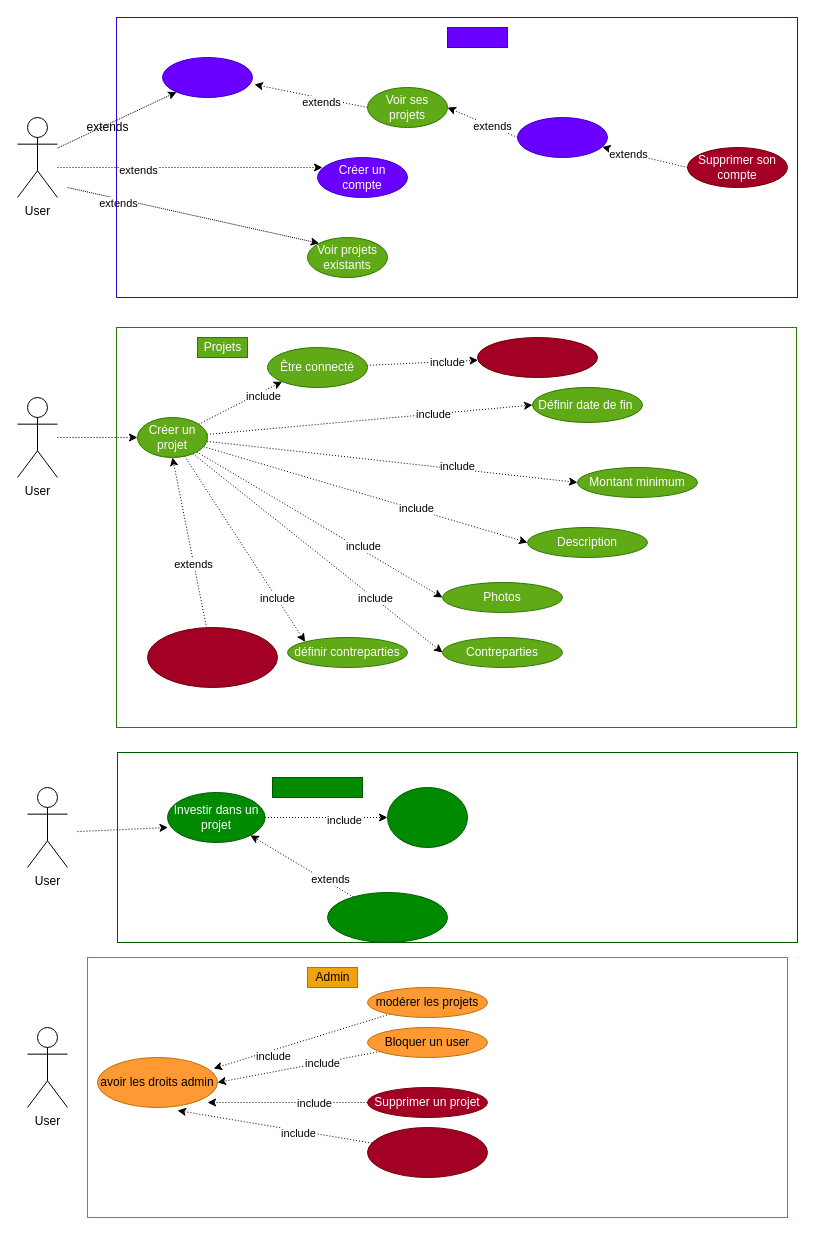
Image size: 815x1235. Some labels were removed from this diagram. The centre of each missing label's shape, as x and y in pixels:
"Compte" goes at [477,37].
"investissement" goes at [317,787].
"Mettre un projet en attente" goes at [427,1152].
"Modifier son compte" goes at [562,137].
"Modifier/supprimer le projet" goes at [212,657].
"Recevoir contrepartie" goes at [427,817].
"Se connecter" goes at [207,77].
"Signaler projets" goes at [537,357].
"Voir les projets où investissement" goes at [387,917].
